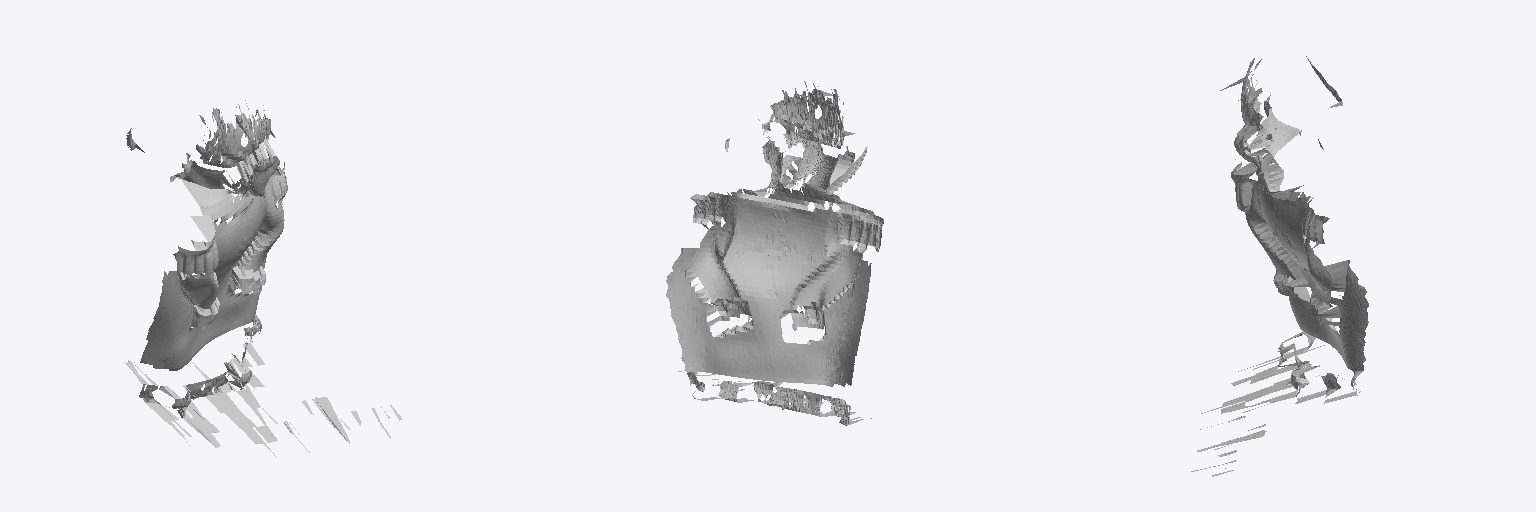
The model's file is frame-S00F04.obj.
3 views of the same model, side by side, from view 1: azimuth 30°, elevation 25°; view 2: azimuth 150°, elevation 25°; view 3: azimuth 270°, elevation 25° (orthographic).
Bounding box in the file's own units: 68.79 × 100 × 47.26.